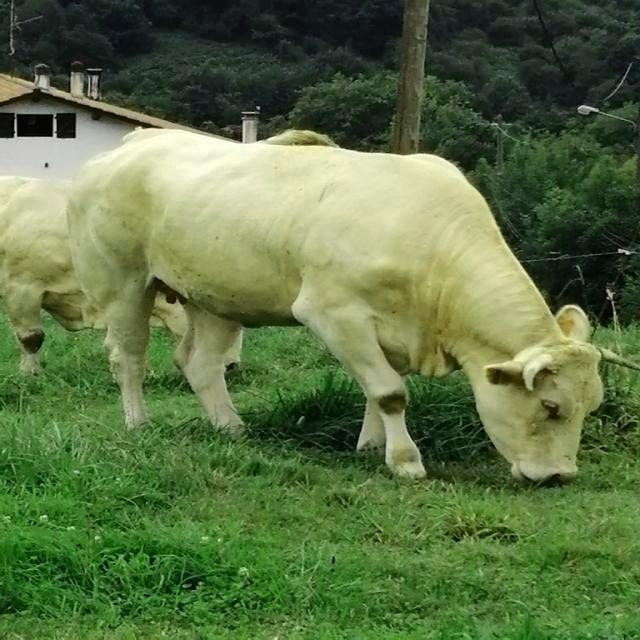cow: (68, 130, 602, 481)
